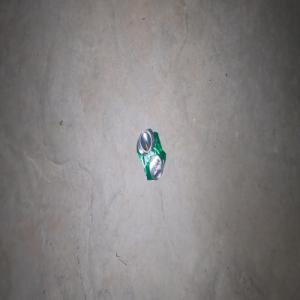SodaCan: (136, 128, 166, 180)
